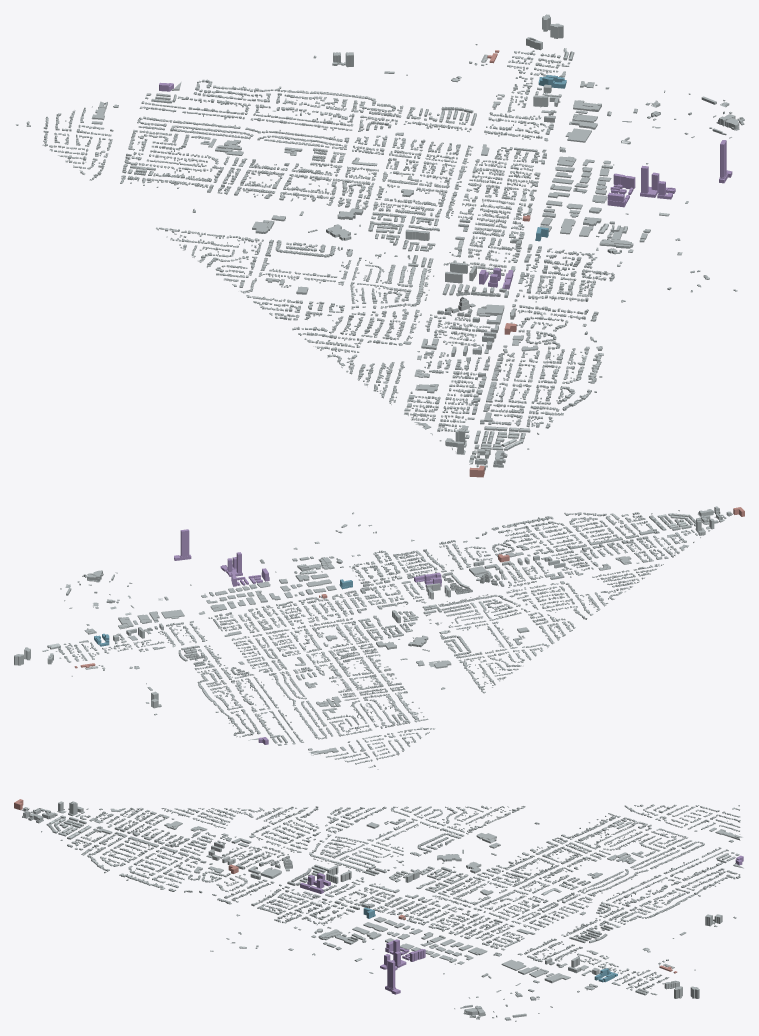
Rendered from lakeview.glb.
The picture shows the model from 3 angles, top to bottom: view 1: azimuth 30°, elevation 25°; view 2: azimuth 150°, elevation 25°; view 3: azimuth 270°, elevation 25°; orthographic projection. The views are drawn at different scales.
Visible parts, largest first — view 1: existing-102, existing-103, existing-101; view 2: existing-102, existing-103, existing-101; view 3: existing-102, existing-103, existing-101.
Boxes of the visible parts, <box> form: existing-102: <box>120,14,574,447</box>; existing-103: <box>474,81,744,450</box>; existing-101: <box>15,101,118,180</box>; existing-102: <box>14,517,705,745</box>; existing-103: <box>60,510,695,634</box>; existing-101: <box>308,727,435,769</box>; existing-102: <box>68,801,743,998</box>; existing-103: <box>41,815,597,1021</box>; existing-101: <box>624,804,742,842</box>.
Size of the model in its own units: 3104 by 200 by 4422.
